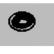correct: (6, 8, 38, 33)
